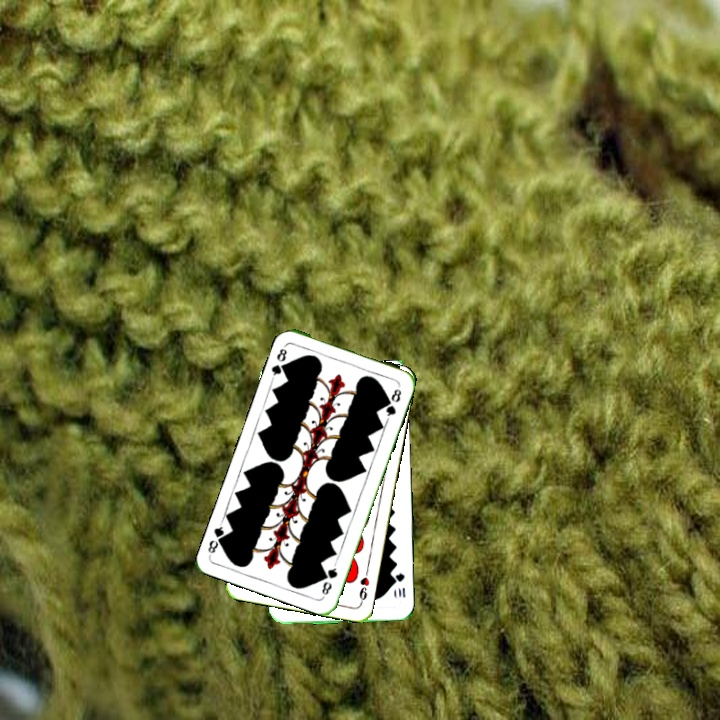G10: (391, 569, 408, 600)
G8: (267, 344, 290, 381), (318, 560, 340, 597)
H9: (355, 566, 372, 606)
